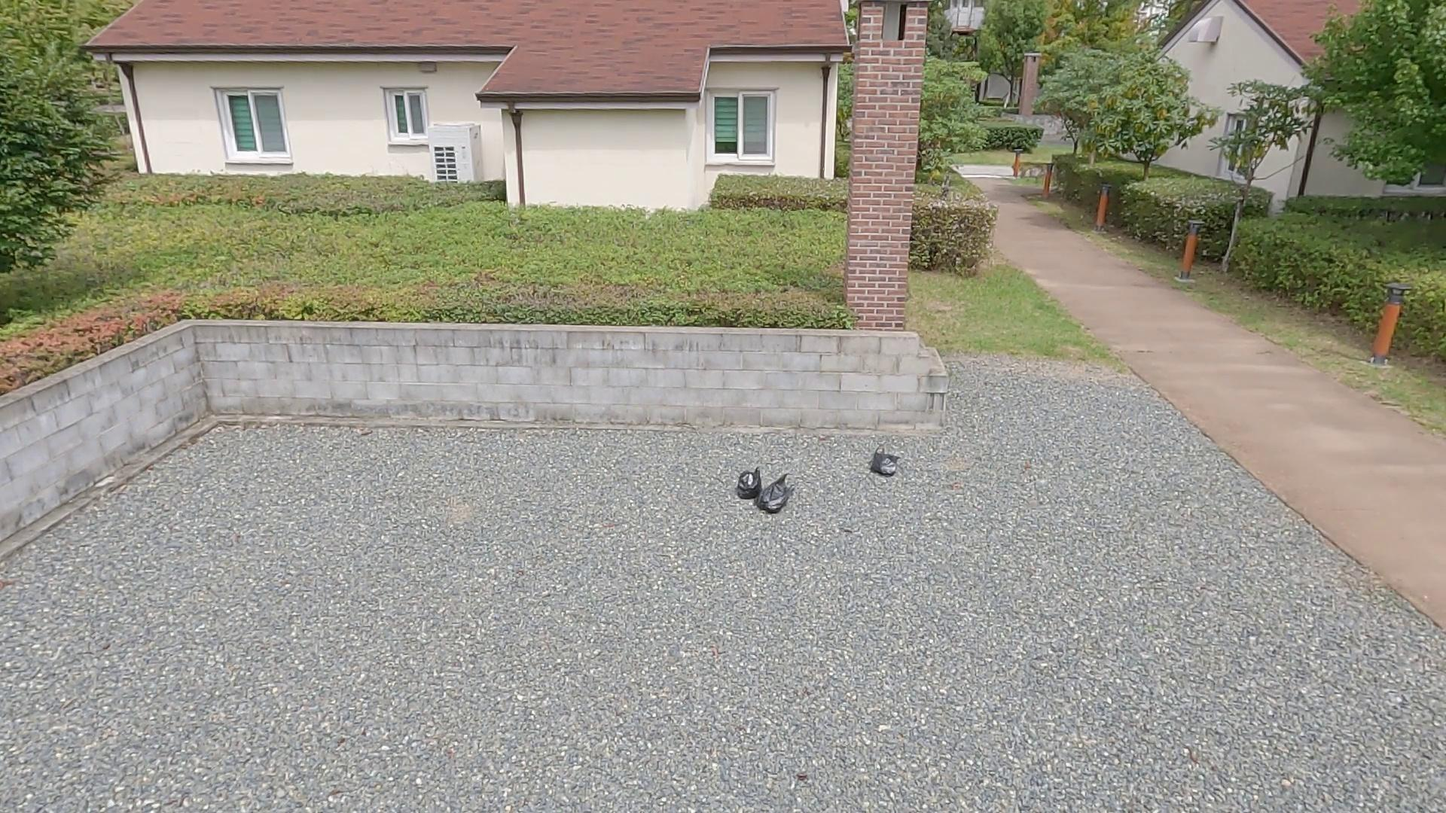trash: (755, 473, 795, 514), (869, 445, 900, 477), (736, 465, 763, 501)
